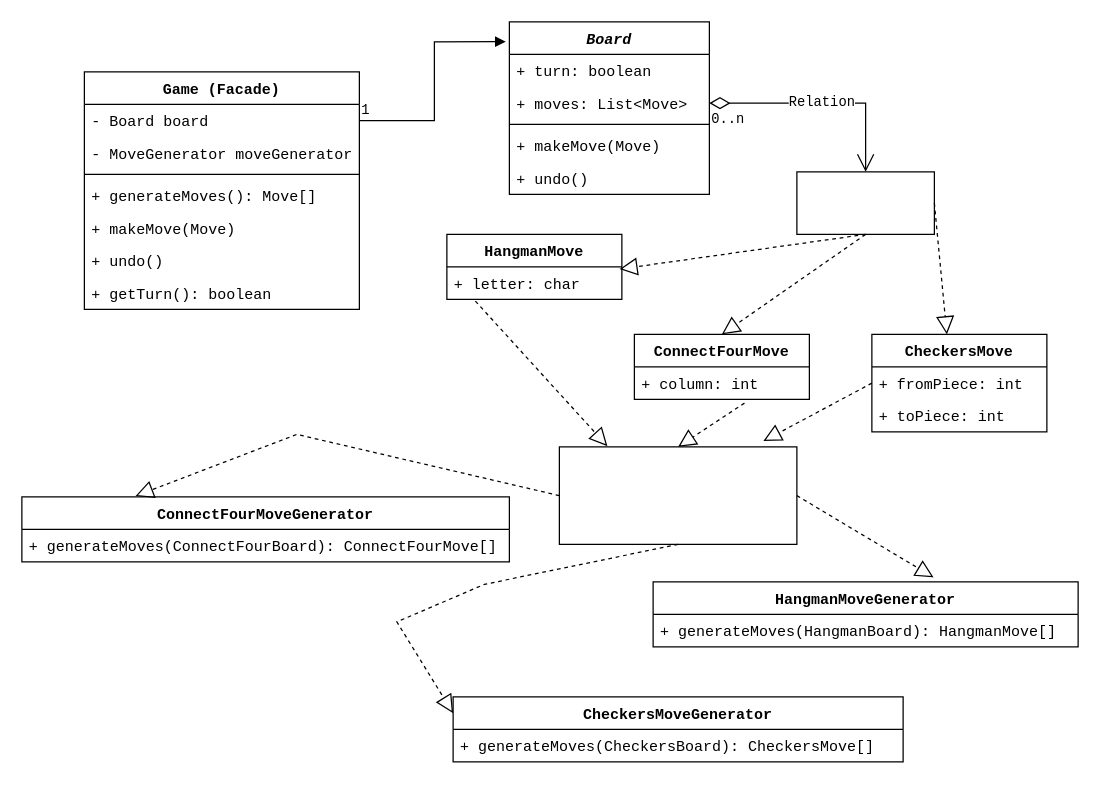
Some shapes in this 1100 by 788 pixel diagram are drawn without their labels. Here are the shapes that lost their labels. From the top down, the centre of each, then its label:
At [865,202]: "«interface» Move".
At [677,495]: "<<Interface>> MoveGenerator + generateMoves(Board): Move[]".
